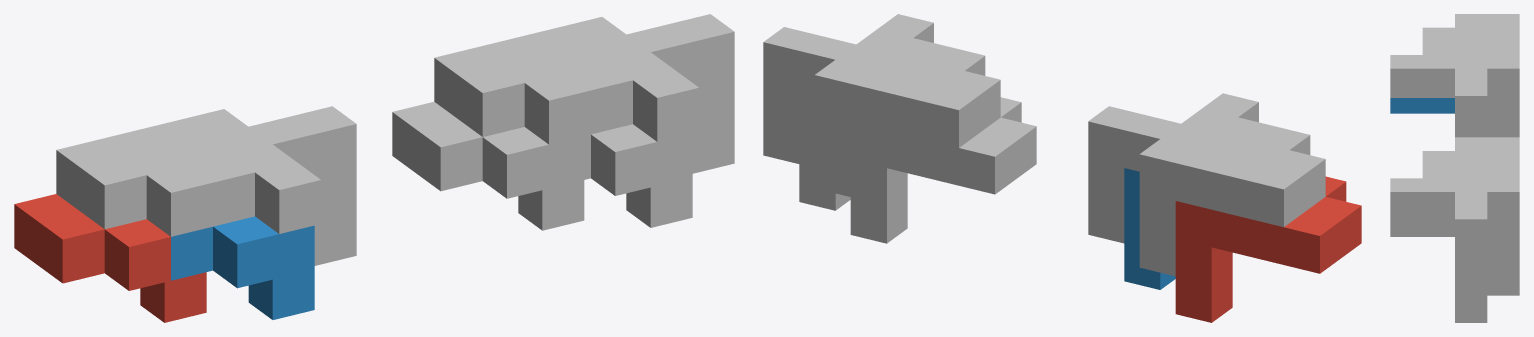
The model's file is tiling.obj.
3 renders of one model, left to right at view 1: azimuth 30°, elevation 25°; view 2: azimuth 150°, elevation 25°; view 3: azimuth 270°, elevation 25°, orthographic. The views are drawn at different scales.
Visible parts, largest first — view 1: copy_1_domain_8, copy_1_domain_4, copy_1_domain_7, copy_1_domain_3, copy_1_domain_1, copy_1_domain_5, copy_1_domain_6, copy_1_domain_2; view 2: copy_1_domain_3, copy_1_domain_7, copy_1_domain_5, copy_1_domain_1, copy_1_domain_4, copy_1_domain_8, copy_1_domain_2, copy_1_domain_6; view 3: copy_1_domain_8, copy_1_domain_4, copy_1_domain_7, copy_1_domain_3, copy_1_domain_6, copy_1_domain_2, copy_1_domain_5.
Part boxes in pixels (x1,y1,x2,y2): copy_1_domain_8: [543, 14, 734, 173]; copy_1_domain_4: [165, 106, 356, 265]; copy_1_domain_7: [434, 17, 625, 144]; copy_1_domain_3: [56, 109, 247, 236]; copy_1_domain_1: [14, 194, 206, 322]; copy_1_domain_5: [392, 102, 584, 230]; copy_1_domain_6: [549, 124, 692, 227]; copy_1_domain_2: [171, 216, 314, 319]; copy_1_domain_3: [1139, 126, 1325, 276]; copy_1_domain_7: [814, 47, 1000, 196]; copy_1_domain_5: [850, 97, 1036, 243]; copy_1_domain_1: [1175, 176, 1361, 322]; copy_1_domain_4: [1088, 93, 1273, 243]; copy_1_domain_8: [763, 14, 948, 163]; copy_1_domain_2: [1124, 168, 1175, 289]; copy_1_domain_6: [799, 89, 850, 210]; copy_1_domain_8: [1390, 164, 1487, 307]; copy_1_domain_4: [1390, 41, 1487, 137]; copy_1_domain_7: [1422, 137, 1519, 279]; copy_1_domain_3: [1422, 14, 1519, 137]; copy_1_domain_6: [1390, 221, 1487, 322]; copy_1_domain_2: [1390, 98, 1454, 113]; copy_1_domain_5: [1487, 280, 1519, 295].
Size of the model in its own units: 16 by 4 by 4.
